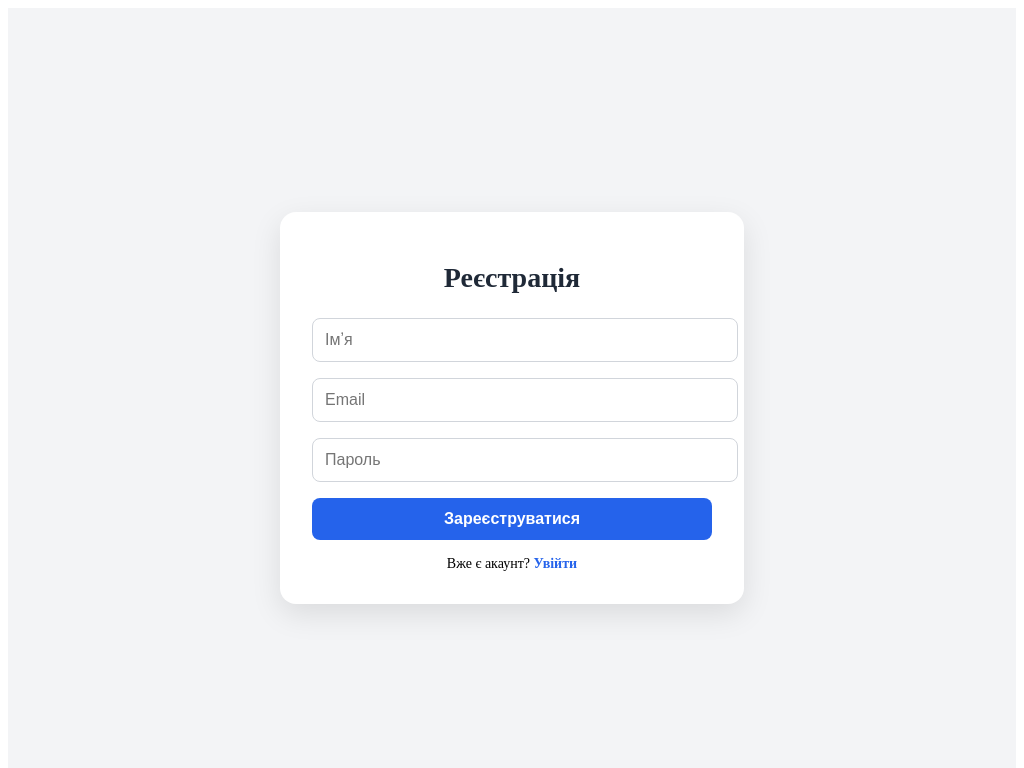
Test: RegisterPage › sends registration data to the API and redirects on successful registration
Type "Test User" into the field with placeholder "Імʼя" at x=525, y=340, box [312,318,738,362]
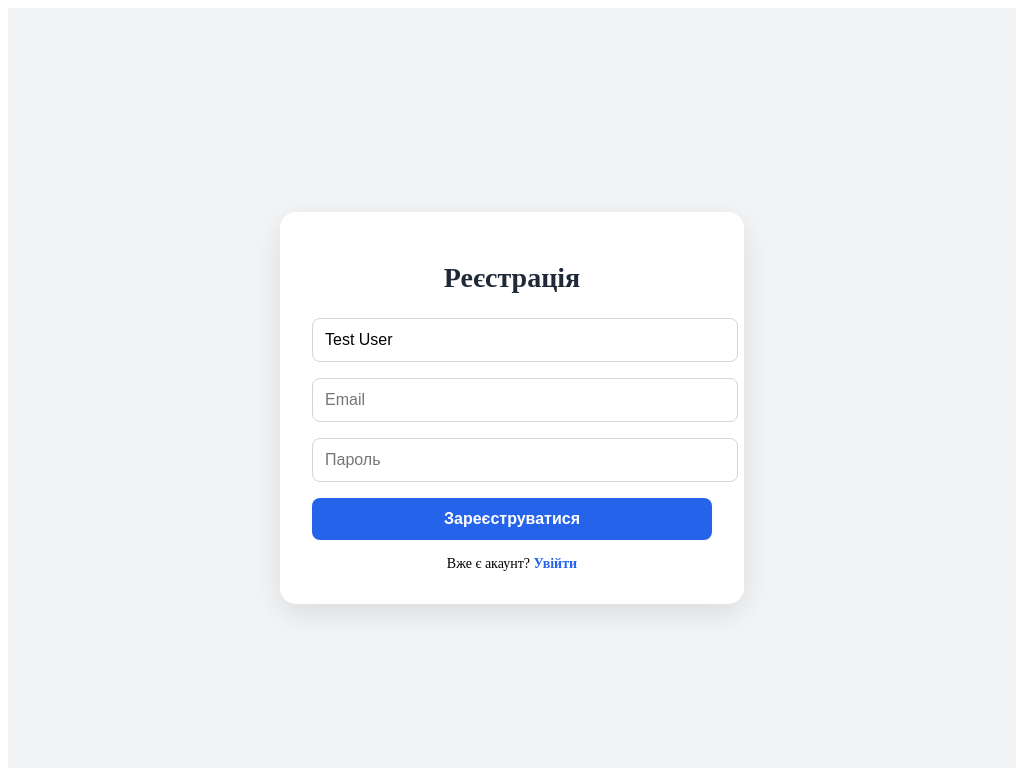
Type "test@example.com" into the field with placeholder "Email" at x=525, y=400, box [312,378,738,422]
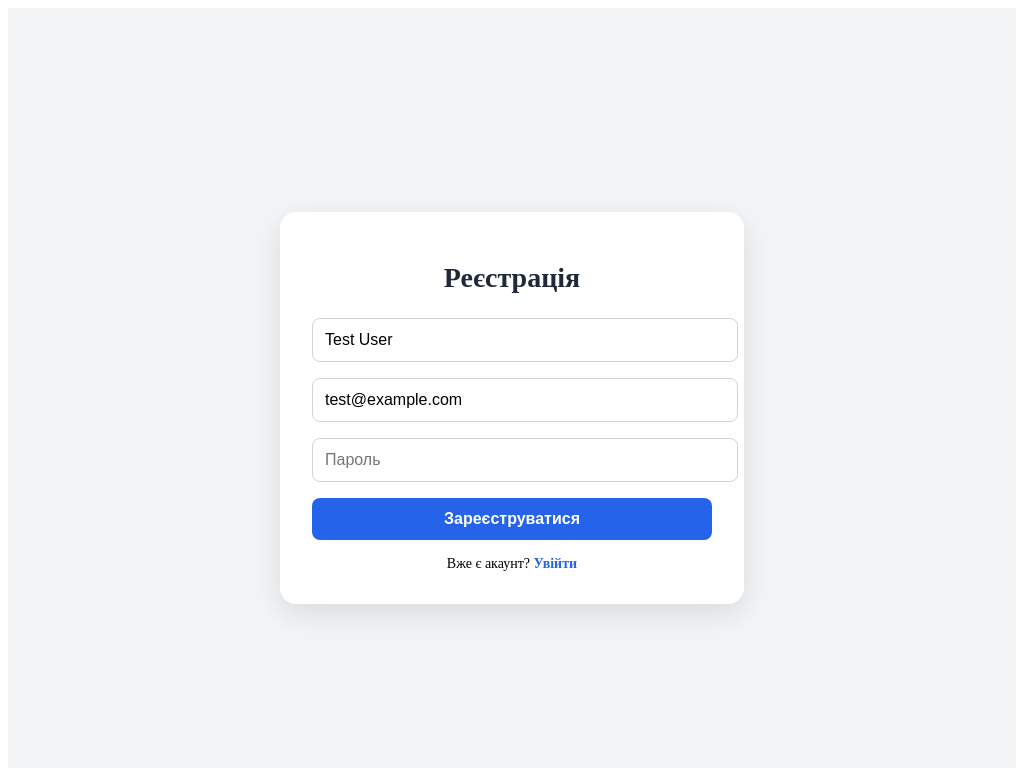
Type "password123" into the password field with placeholder "Пароль" at x=525, y=460, box [312,438,738,482]
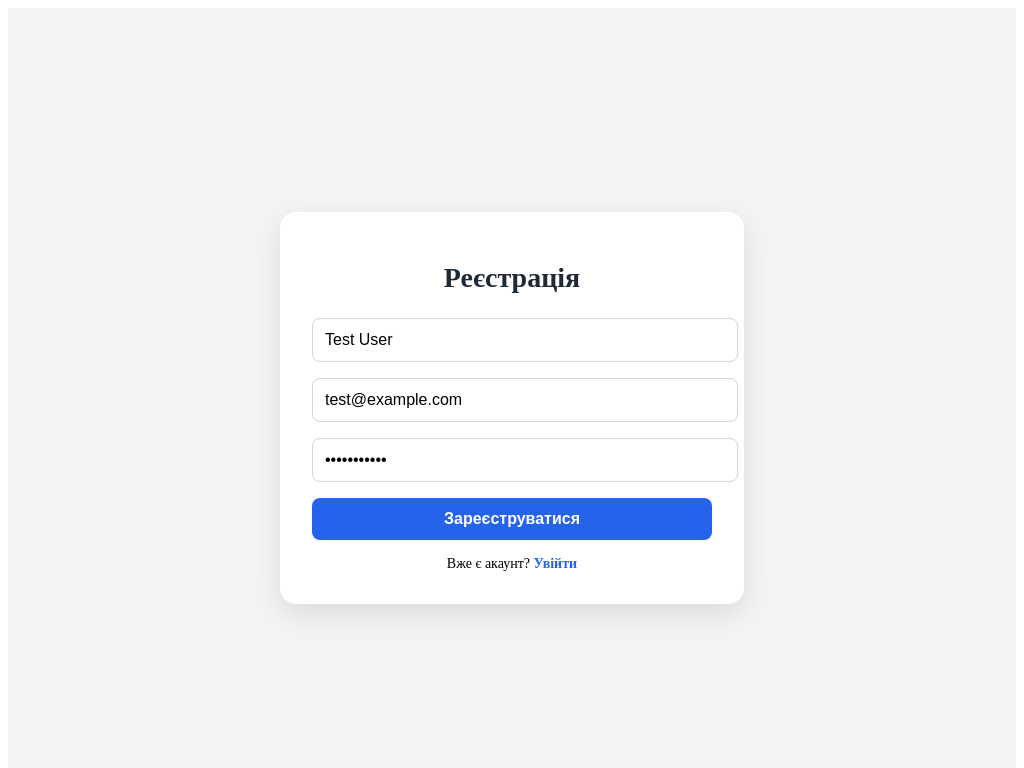
Click the button "Зареєструватися" at x=512, y=519, box [312,498,712,540]
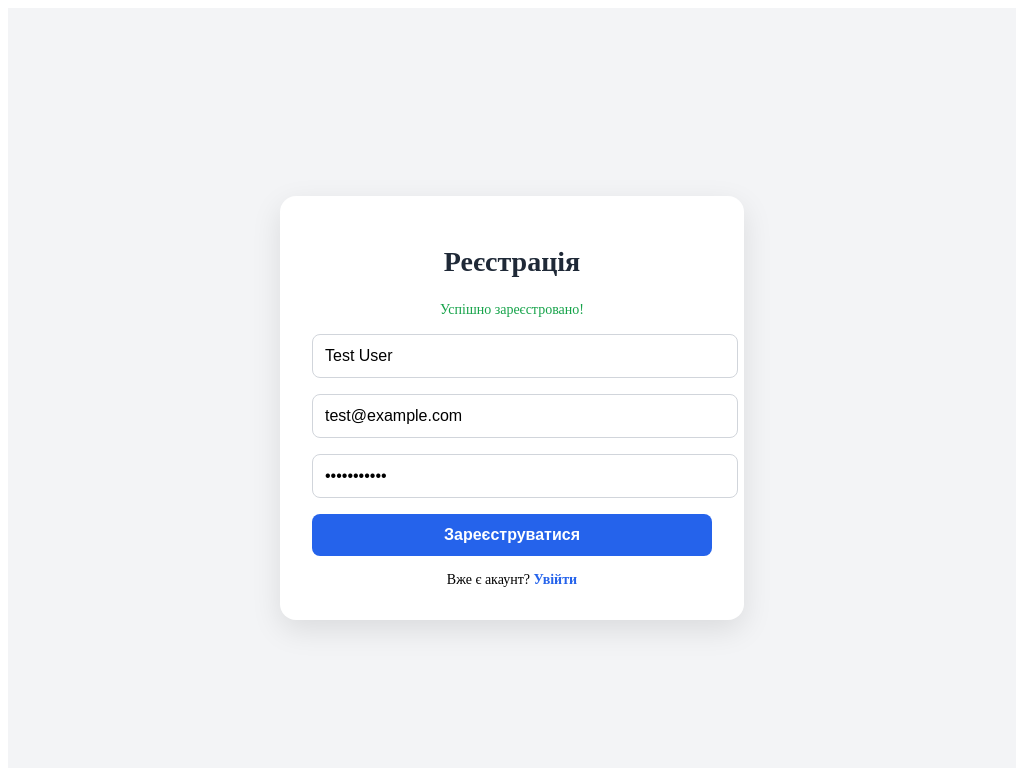
Expected: the text "Успішно зареєстровано!" is shown, [440,302,584,317]
